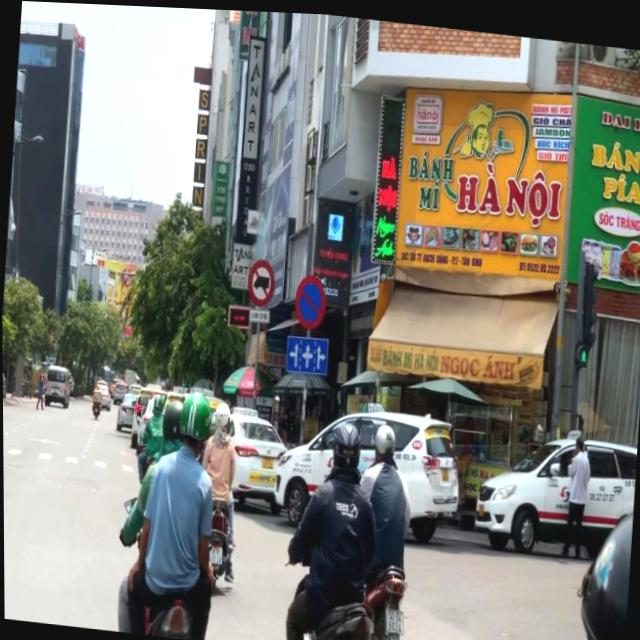Cam do xe: (292, 270, 326, 328)
Cam xe tai: (245, 255, 276, 305)
